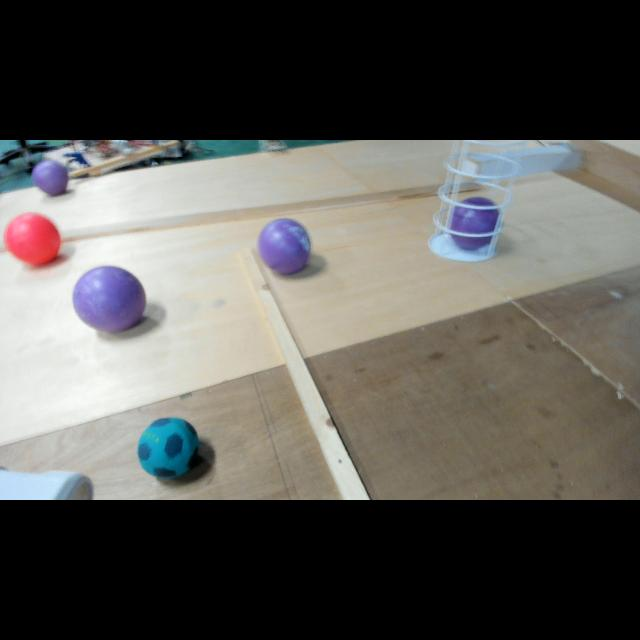P: (71, 266, 147, 334), (255, 216, 312, 276), (448, 196, 502, 250), (31, 160, 70, 197)
R: (3, 212, 62, 266)
S: (427, 140, 528, 264)
